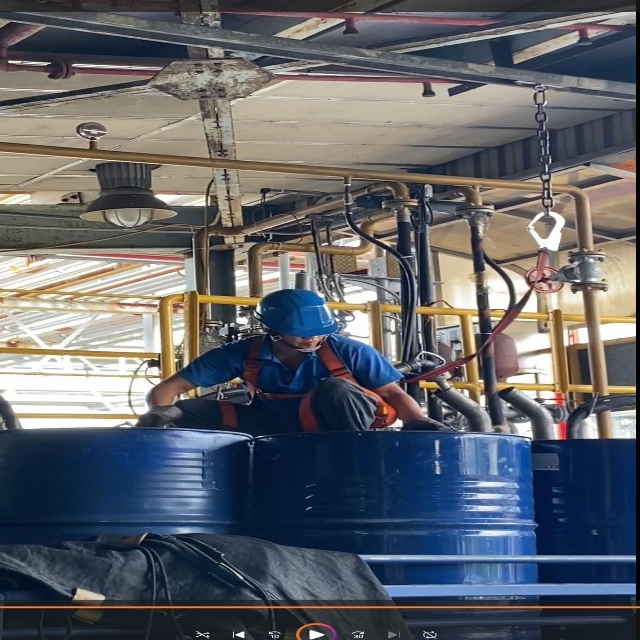Arnes_seguridad: (210, 337, 397, 435)
